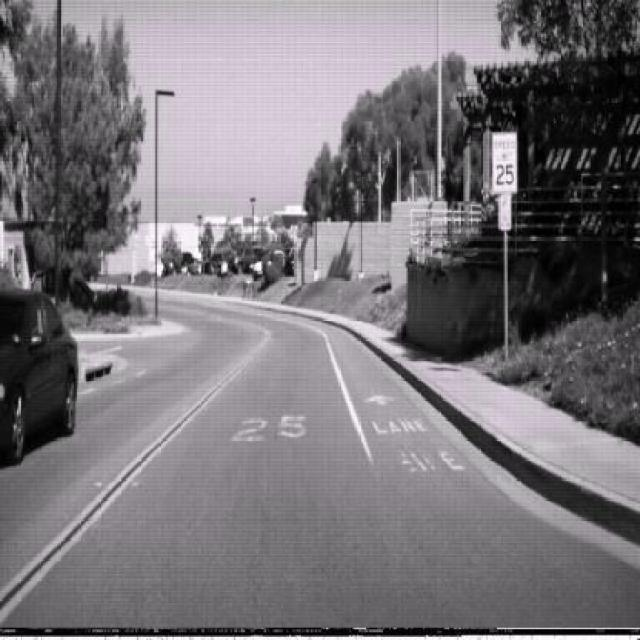speedLimit25: (490, 131, 518, 192)
